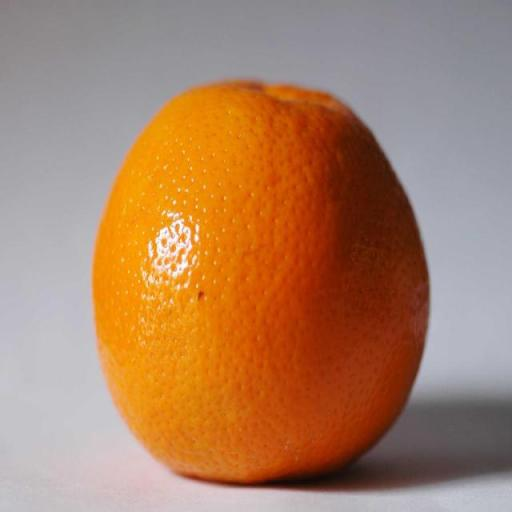fruit: (93, 83, 428, 482)
